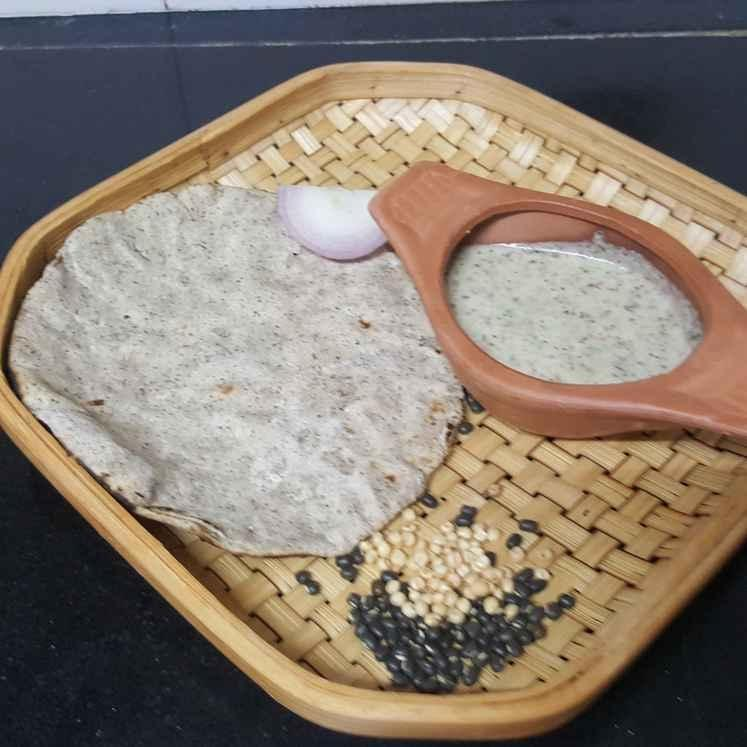bhakri: (13, 187, 478, 576)
coconut chutney: (442, 213, 717, 397)
salad: (269, 167, 418, 270)
